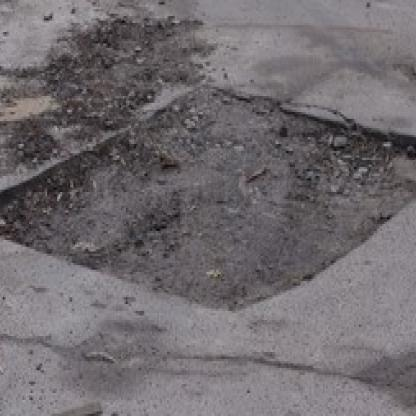pothole: (0, 83, 416, 314)
